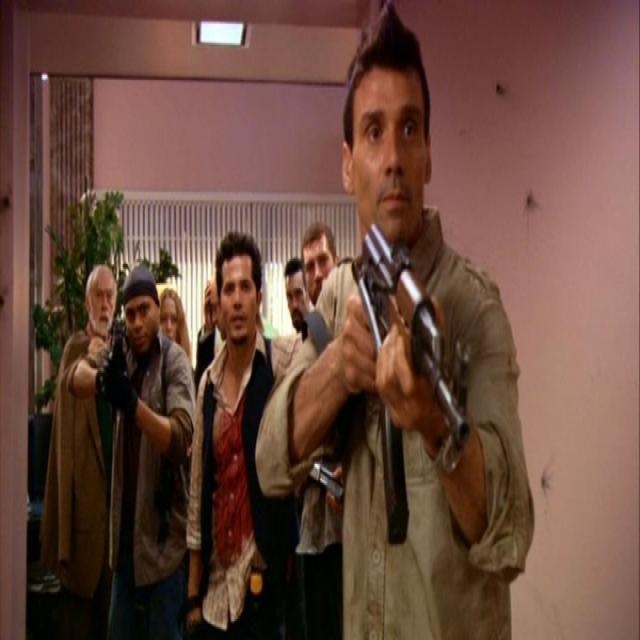rifle: (356, 229, 479, 553)
